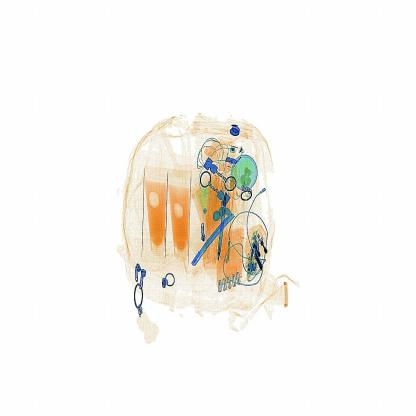pliers: (195, 204, 241, 273)
